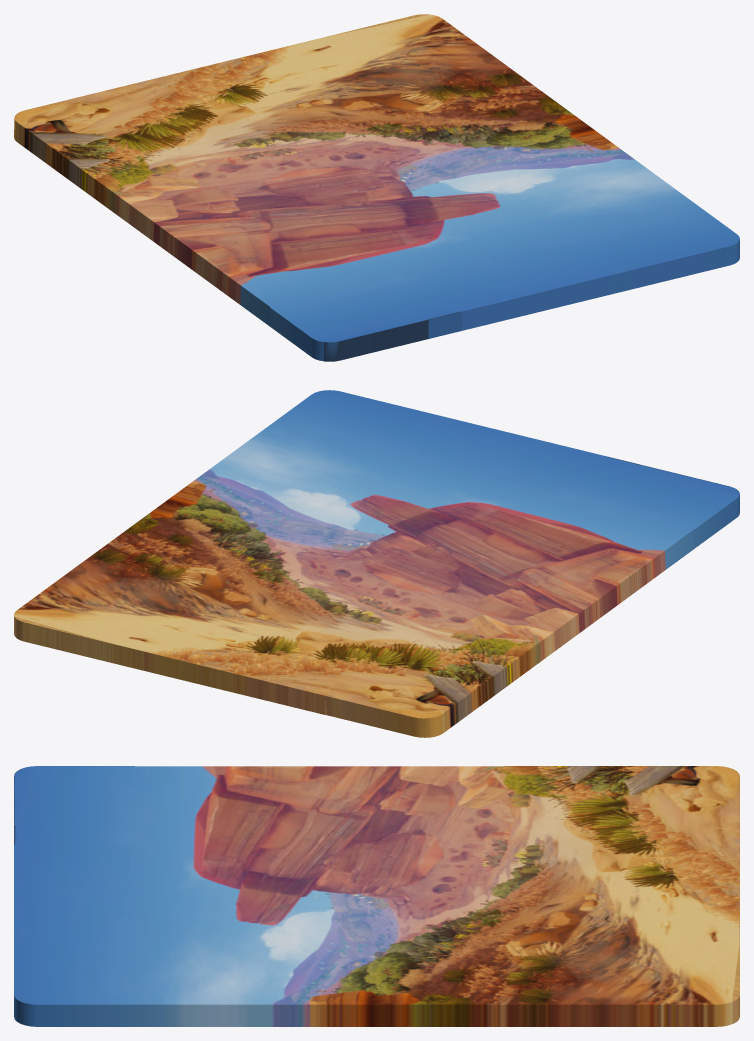
The model's file is Jigsaw Final 6x4 Grid Flat.fbx.
The picture shows the model from 3 angles, top to bottom: view 1: azimuth 30°, elevation 25°; view 2: azimuth 150°, elevation 25°; view 3: azimuth 270°, elevation 25°; orthographic projection. The views are drawn at different scales.
Visible parts, largest first — view 1: Tile_4, Tile_3, Tile_2, Tile_1, Tile_12, Tile_16, Tile_8, Tile_24, Tile_20, Tile_19, Tile_11, Tile_21 (+12 smaller); view 2: Tile_24, Tile_21, Tile_23, Tile_22, Tile_12, Tile_16, Tile_8, Tile_20, Tile_11, Tile_4, Tile_19, Tile_3 (+12 smaller); view 3: Tile_21, Tile_5, Tile_9, Tile_17, Tile_1, Tile_13, Tile_19, Tile_11, Tile_7, Tile_12, Tile_15, Tile_2 (+12 smaller).
Boxes of the visible parts, box(x1,y1,x2,y2) form: Tile_4: box(269, 281, 428, 361); Tile_3: box(375, 255, 534, 338); Tile_2: box(482, 229, 641, 312); Tile_1: box(589, 203, 739, 286); Tile_12: box(164, 204, 323, 287); Tile_16: box(112, 166, 270, 249); Tile_8: box(217, 242, 375, 325); Tile_24: box(14, 89, 163, 172); Tile_20: box(59, 127, 218, 211); Tile_19: box(160, 101, 324, 165); Tile_11: box(272, 178, 430, 242); Tile_21: box(318, 14, 483, 74); Tile_24: box(323, 658, 485, 737); Tile_21: box(14, 579, 165, 663); Tile_23: box(217, 631, 377, 714); Tile_22: box(113, 605, 271, 688); Tile_12: box(483, 542, 642, 624); Tile_16: box(430, 580, 590, 663); Tile_8: box(535, 503, 694, 586); Tile_20: box(378, 618, 537, 701); Tile_11: box(377, 516, 542, 579); Tile_4: box(588, 465, 739, 547); Tile_19: box(271, 592, 430, 657); Tile_3: box(482, 439, 643, 503); Tile_21: box(589, 930, 739, 1026); Tile_5: box(129, 942, 281, 1026); Tile_9: box(249, 931, 380, 1026); Tile_17: box(464, 932, 623, 1026); Tile_1: box(14, 942, 161, 1026); Tile_13: box(347, 942, 500, 1026); Tile_19: box(487, 811, 648, 887); Tile_11: box(226, 811, 399, 887); Tile_7: box(107, 809, 259, 887); Tile_12: box(227, 766, 402, 827); Tile_15: box(375, 809, 519, 896); Tile_2: box(14, 871, 139, 958).
Bounding box in the file's own units: 18.63 × 0.8059 × 23.91.
1 material, 1 textured.
